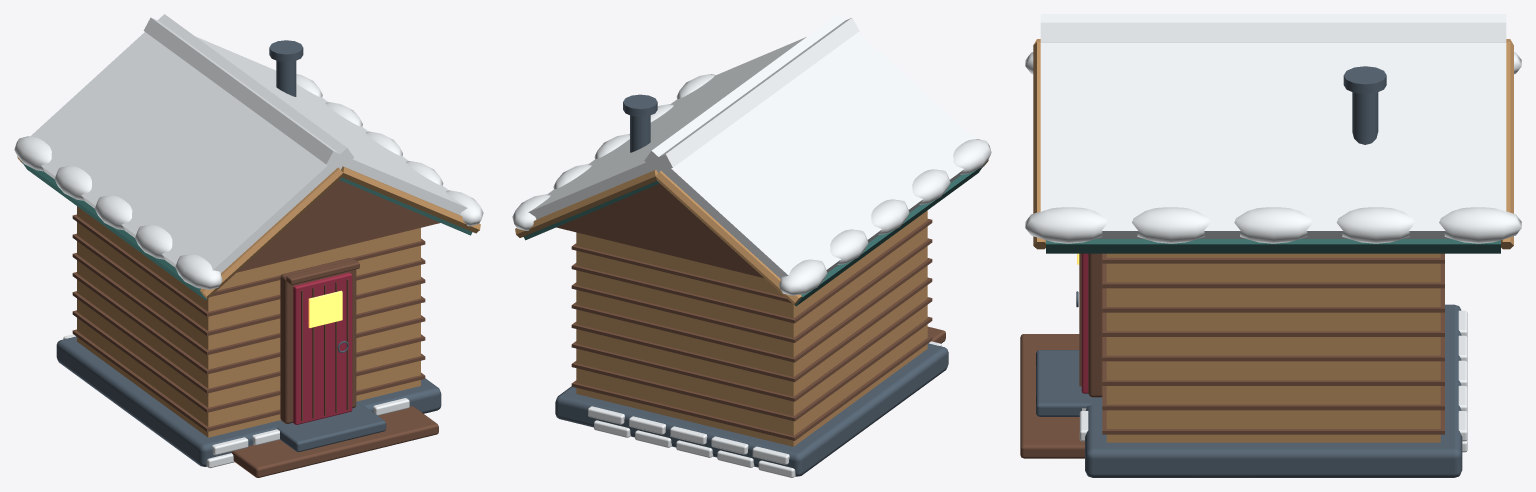
Rendered from 3dassets-alpine-snow-village-cedar-sauna-house-b3b0d5b4.glb.
3 renders of one model, left to right at view 1: azimuth 30°, elevation 25°; view 2: azimuth 150°, elevation 25°; view 3: azimuth 270°, elevation 25°, orthographic. The views are drawn at different scales.
Visible parts, largest first — view 1: cedar-sauna-house-snow, cedar-sauna-house-oak, cedar-sauna-house-wood, cedar-sauna-house-iron, cedar-sauna-house-berry, cedar-sauna-house-pine, cedar-sauna-house-amber; view 2: cedar-sauna-house-snow, cedar-sauna-house-oak, cedar-sauna-house-wood, cedar-sauna-house-iron, cedar-sauna-house-pine; view 3: cedar-sauna-house-snow, cedar-sauna-house-oak, cedar-sauna-house-wood, cedar-sauna-house-iron, cedar-sauna-house-pine, cedar-sauna-house-berry.
Boxes of the visible parts, <box> form: cedar-sauna-house-snow: <box>14,14,483,468</box>; cedar-sauna-house-oak: <box>17,156,480,437</box>; cedar-sauna-house-wood: <box>72,180,439,477</box>; cedar-sauna-house-iron: <box>56,40,441,466</box>; cedar-sauna-house-berry: <box>293,272,352,424</box>; cedar-sauna-house-pine: <box>21,161,472,299</box>; cedar-sauna-house-amber: <box>308,290,342,327</box>; cedar-sauna-house-snow: <box>512,14,991,477</box>; cedar-sauna-house-oak: <box>515,159,988,446</box>; cedar-sauna-house-wood: <box>556,183,945,440</box>; cedar-sauna-house-iron: <box>555,94,948,476</box>; cedar-sauna-house-pine: <box>523,164,984,306</box>; cedar-sauna-house-snow: <box>1025,14,1521,452</box>; cedar-sauna-house-oak: <box>1033,39,1513,442</box>; cedar-sauna-house-wood: <box>1020,253,1444,458</box>; cedar-sauna-house-iron: <box>1036,66,1462,477</box>; cedar-sauna-house-pine: <box>1046,239,1500,253</box>; cedar-sauna-house-berry: <box>1081,253,1088,393</box>.
Size of the model in its own units: 4.01 by 3.97 by 4.65.
